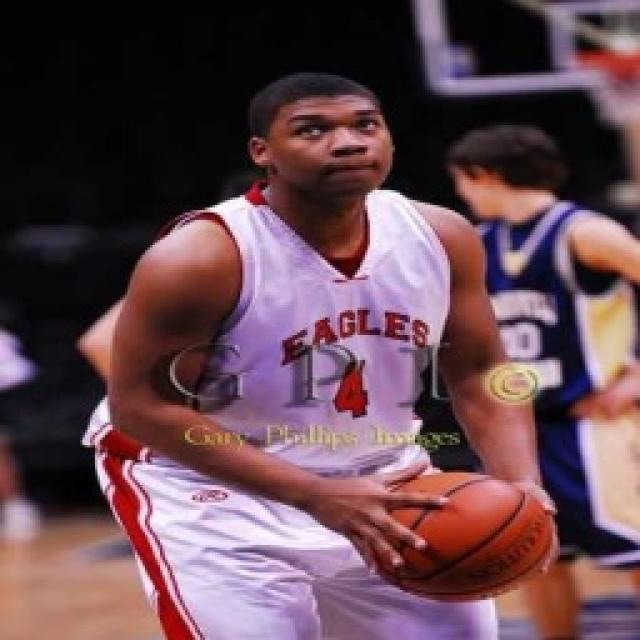rim: (364, 468, 560, 602)
